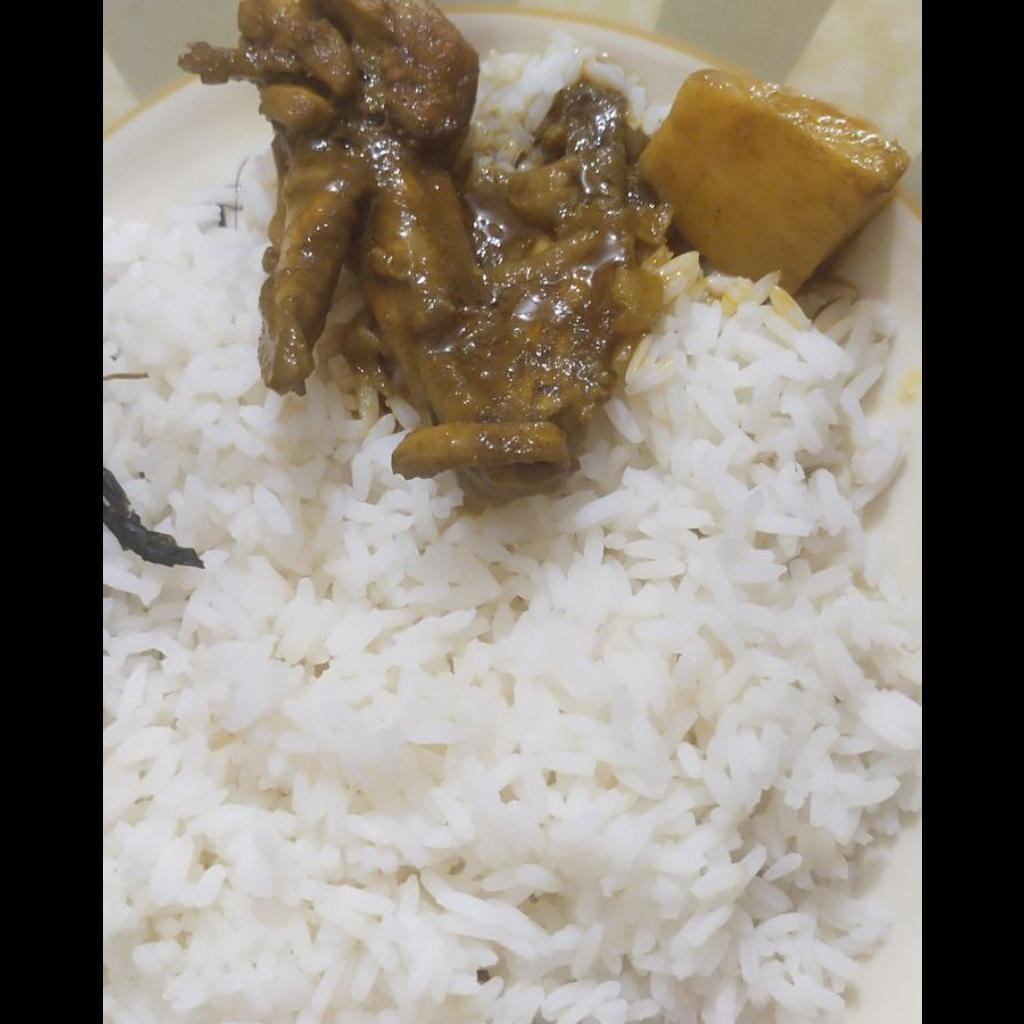chicken: (184, 1, 666, 508)
potato: (638, 73, 913, 290)
rice: (102, 166, 920, 1022)
